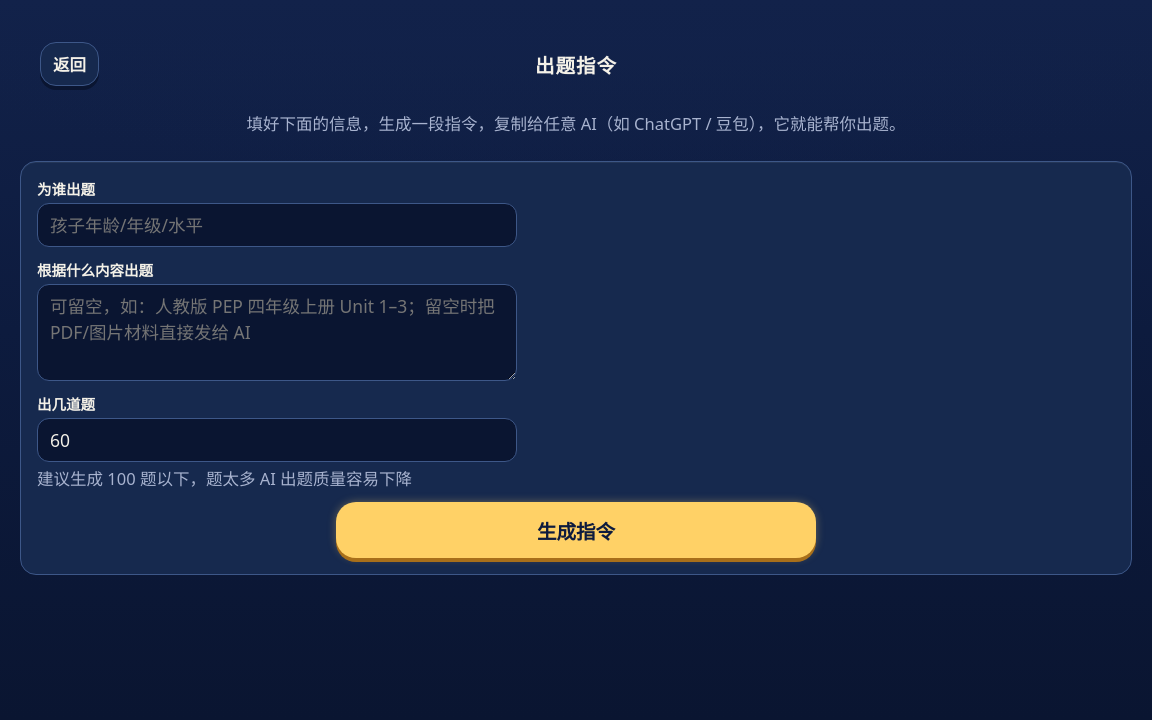
Test: 校验交互（#141）：失焦逐字段校验、就近报错、有错禁用生成 › 水平为空 → 失焦即在该字段旁报错、其余字段不误报、生成按钮禁用、无结果区
The width and height of the screenshot is (1152, 720).
In the text box labelled "根据什么内容出题": (277, 332) [37,284,517,381], type "人教版 PEP 四年级上册 Unit 1–3"
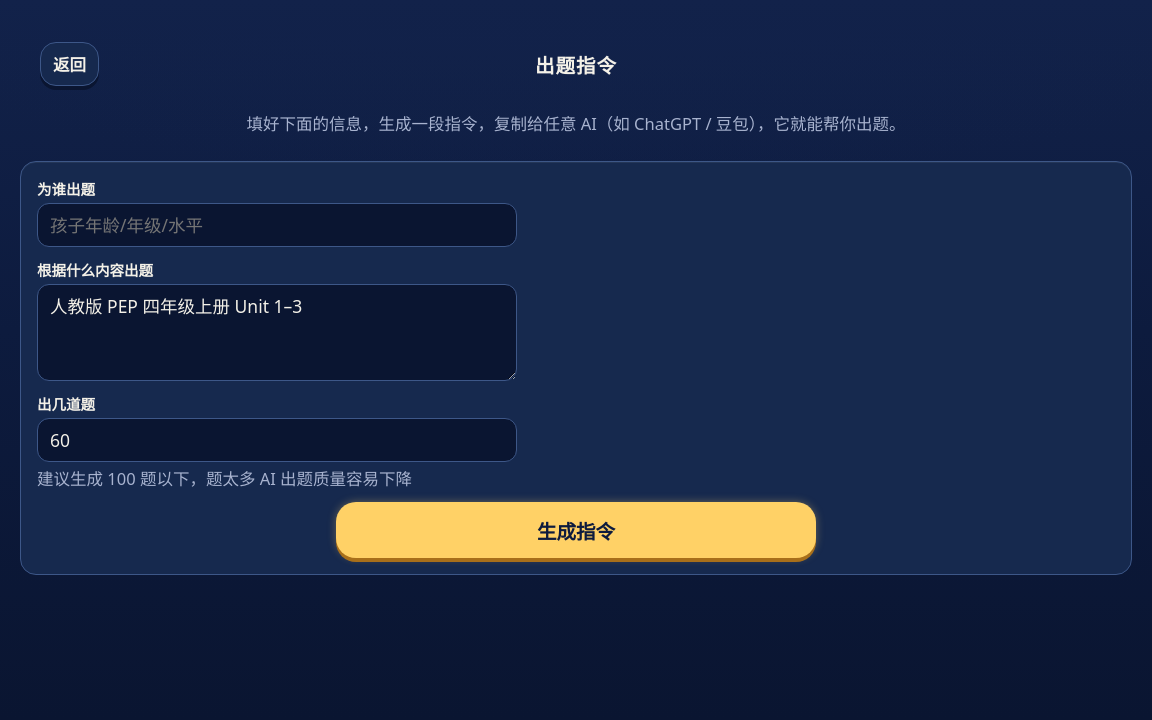
Replace the text in the number field labelled "出几道题" with "200": (277, 440) [37,418,517,462]
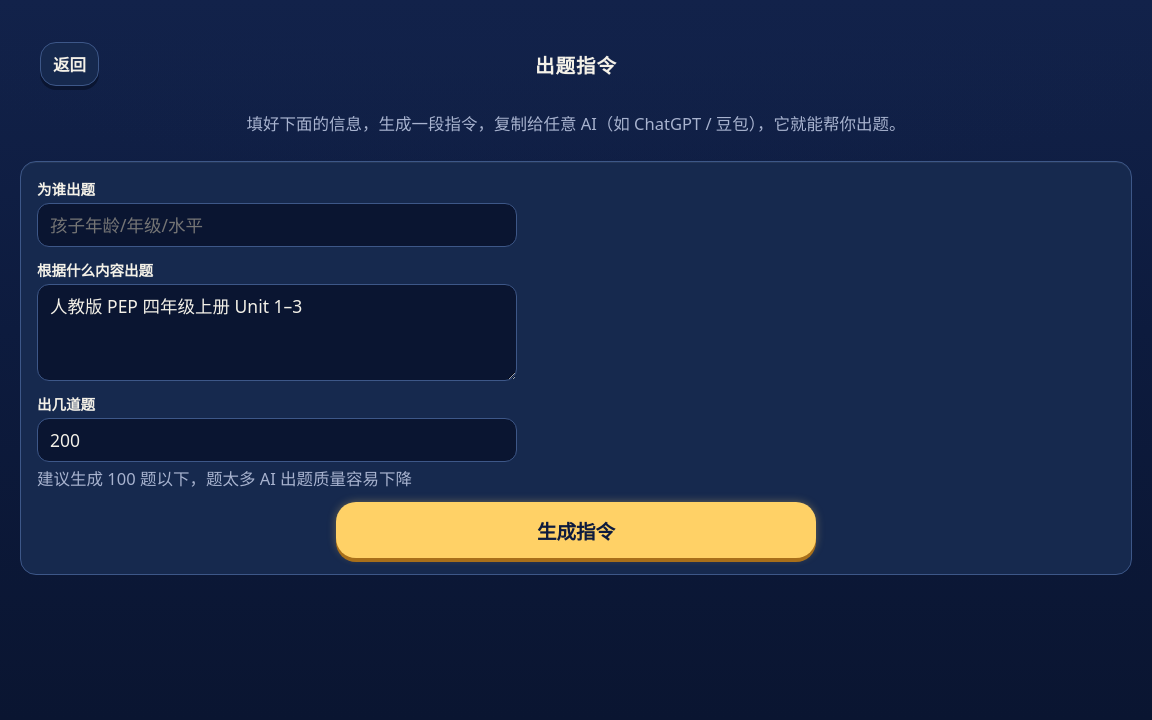
Leave the field labelled "为谁出题", box [37,203,517,247]
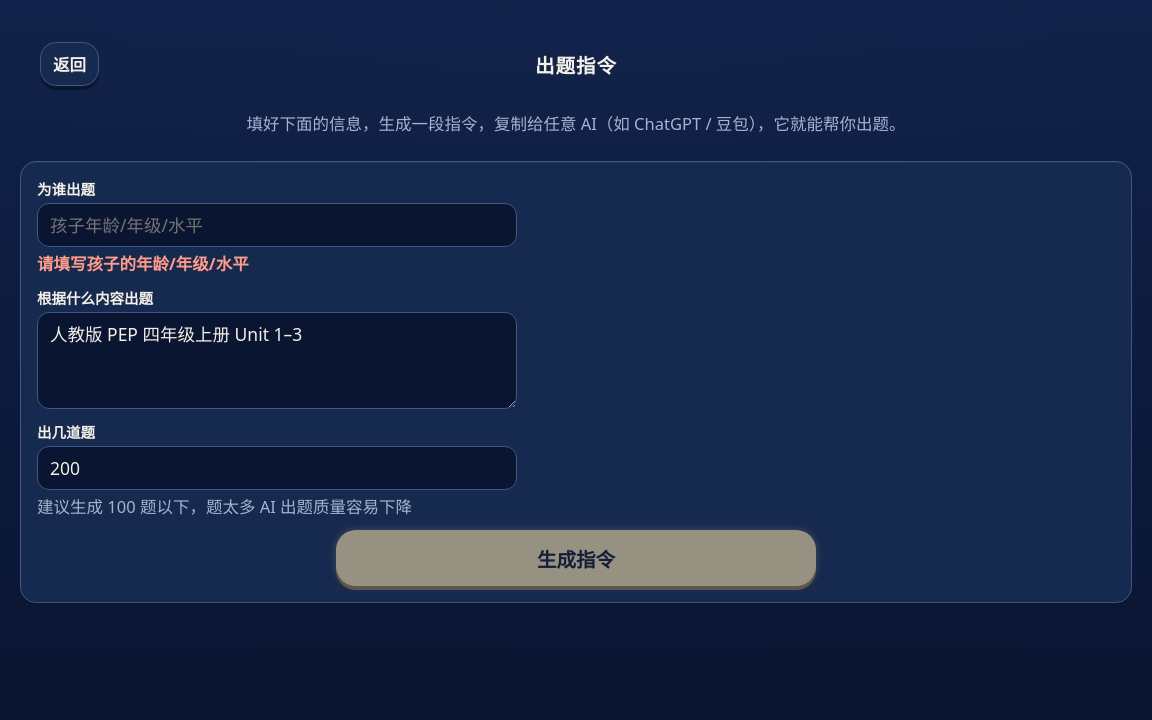
Check: the message "请填写孩子的年龄/年级/水平" is shown, box [37,252,249,275]
